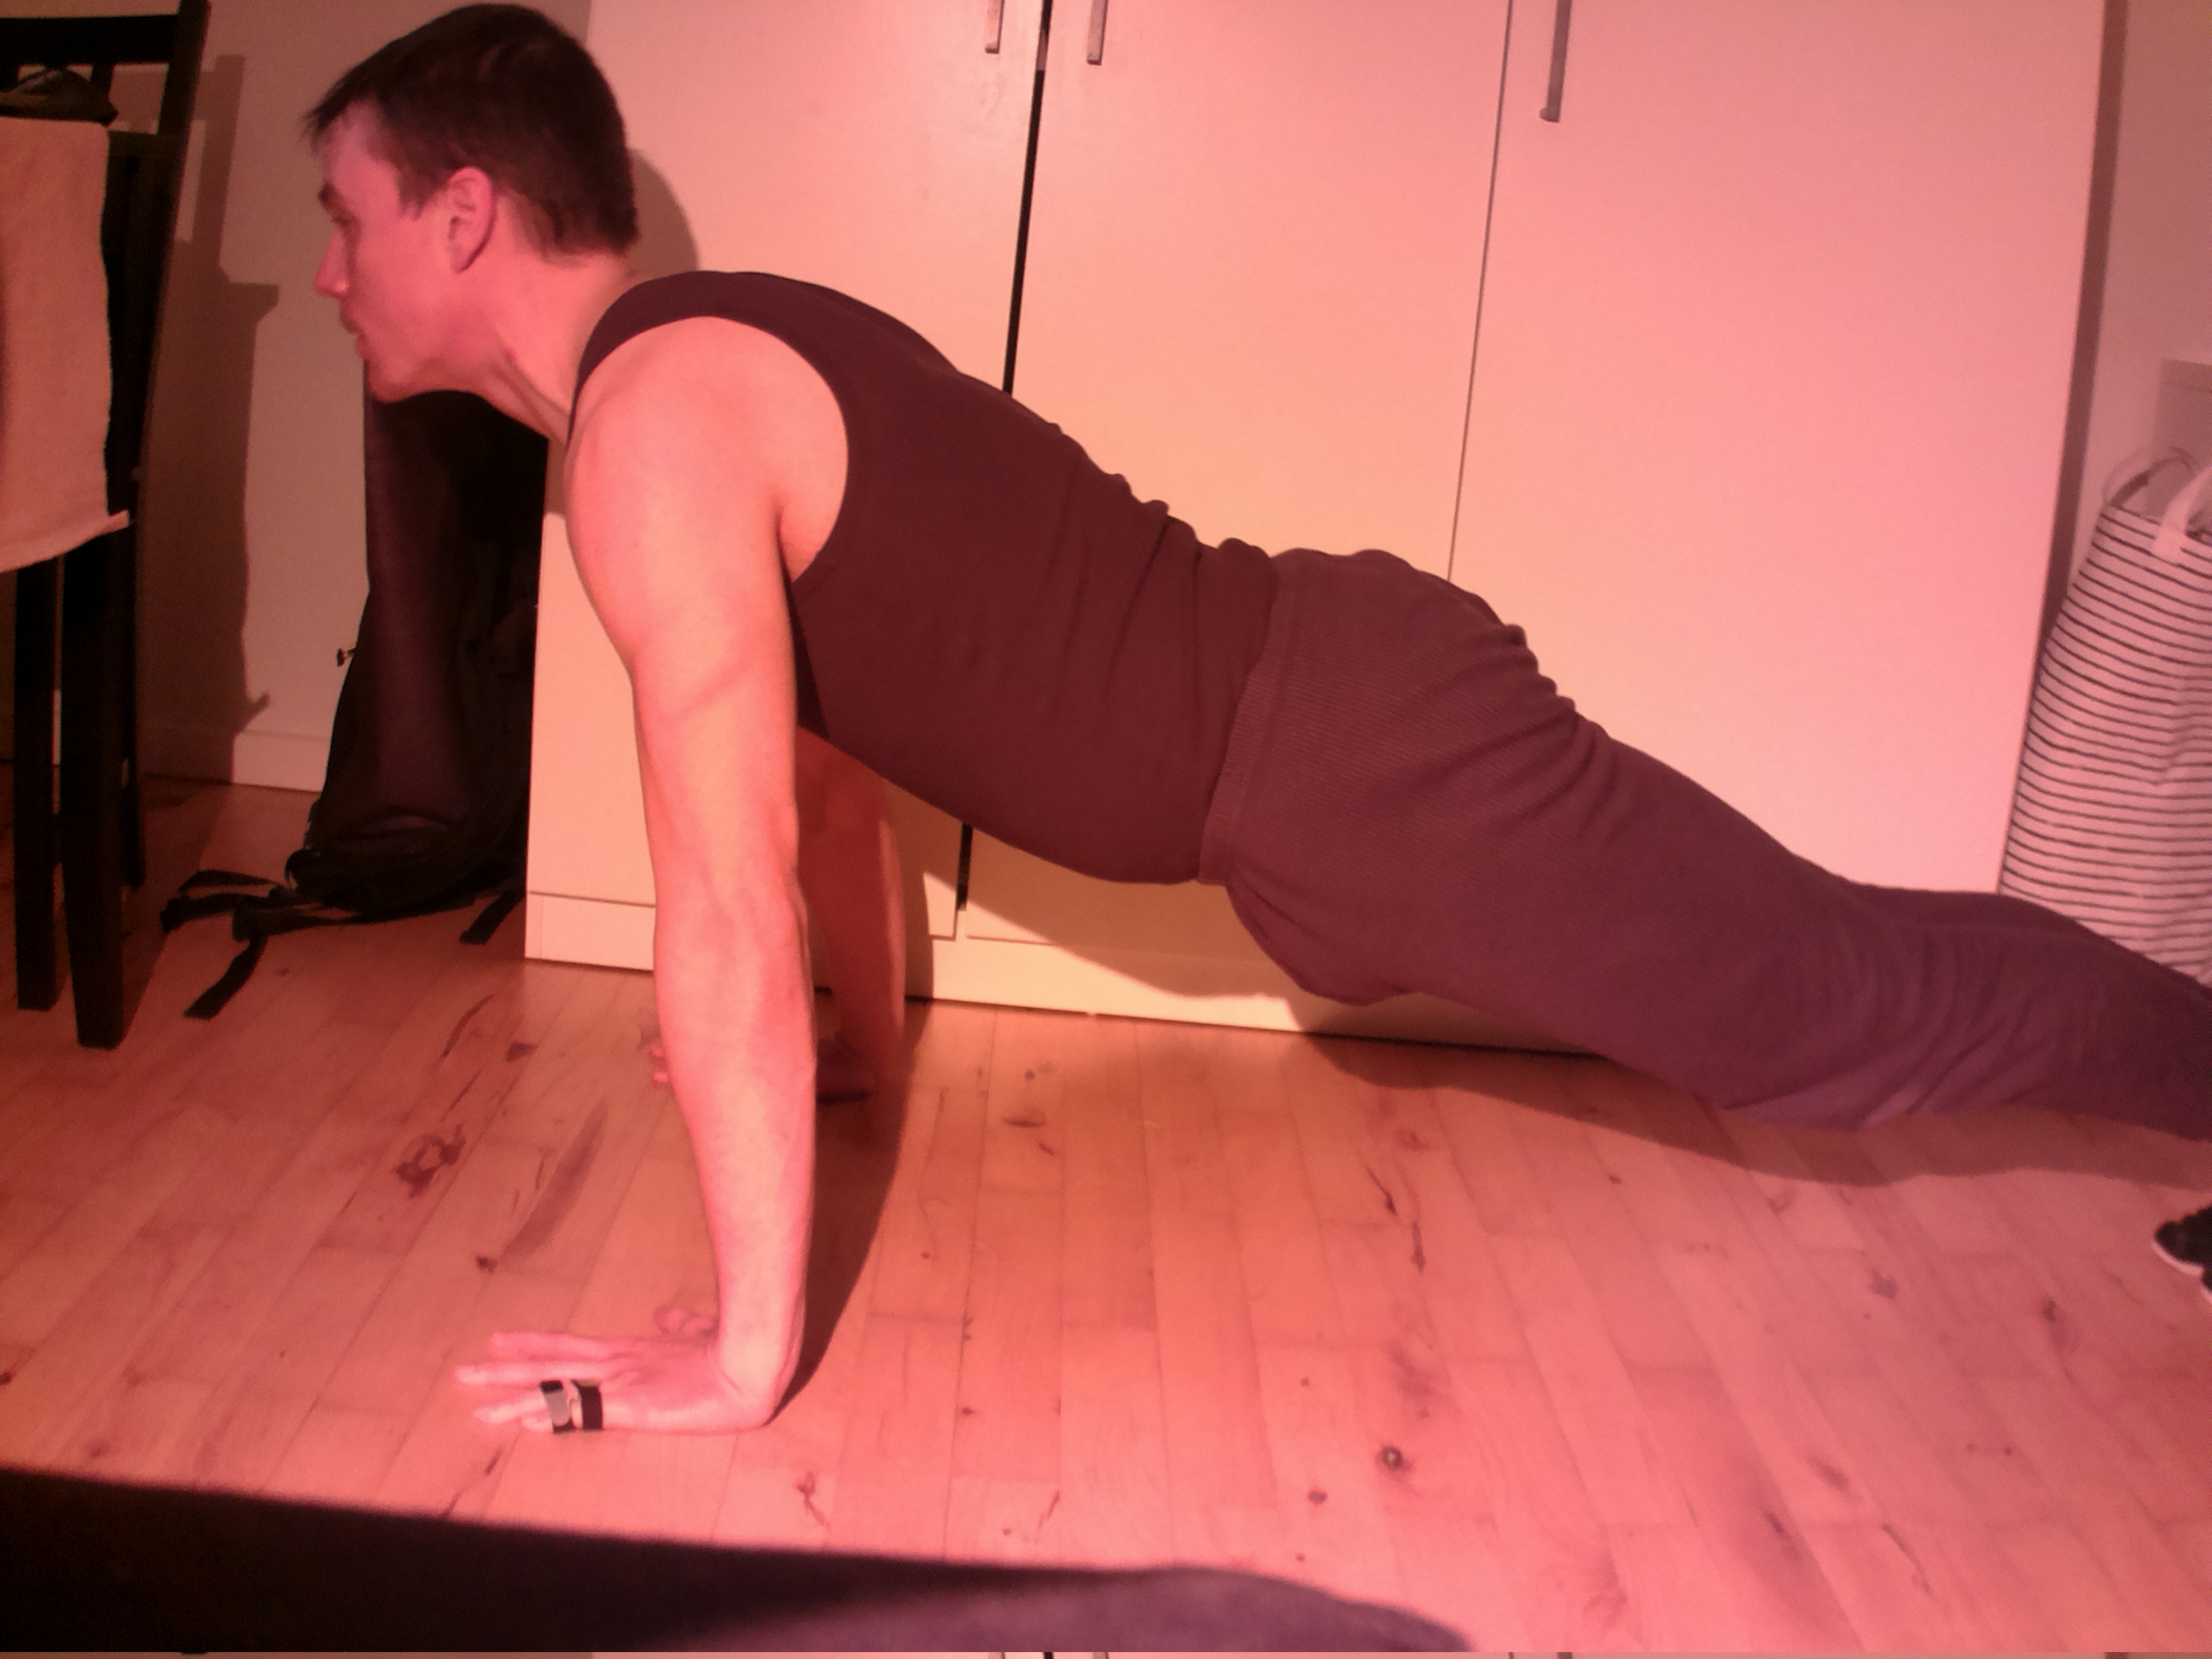CONAN: (253, 7, 1440, 1455)
